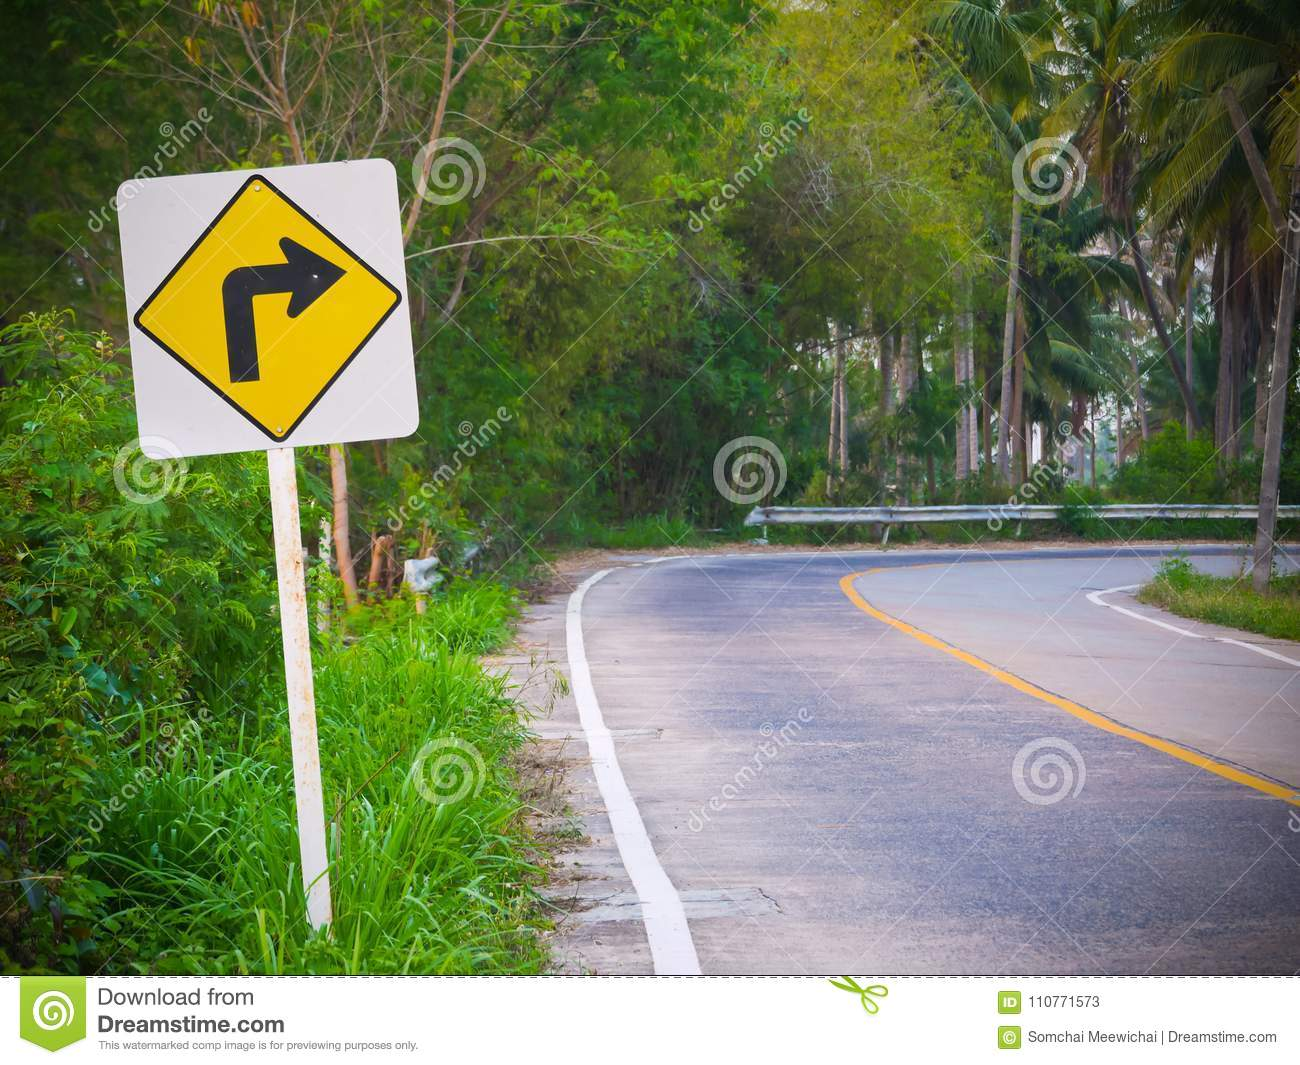right: (119, 156, 407, 443)
